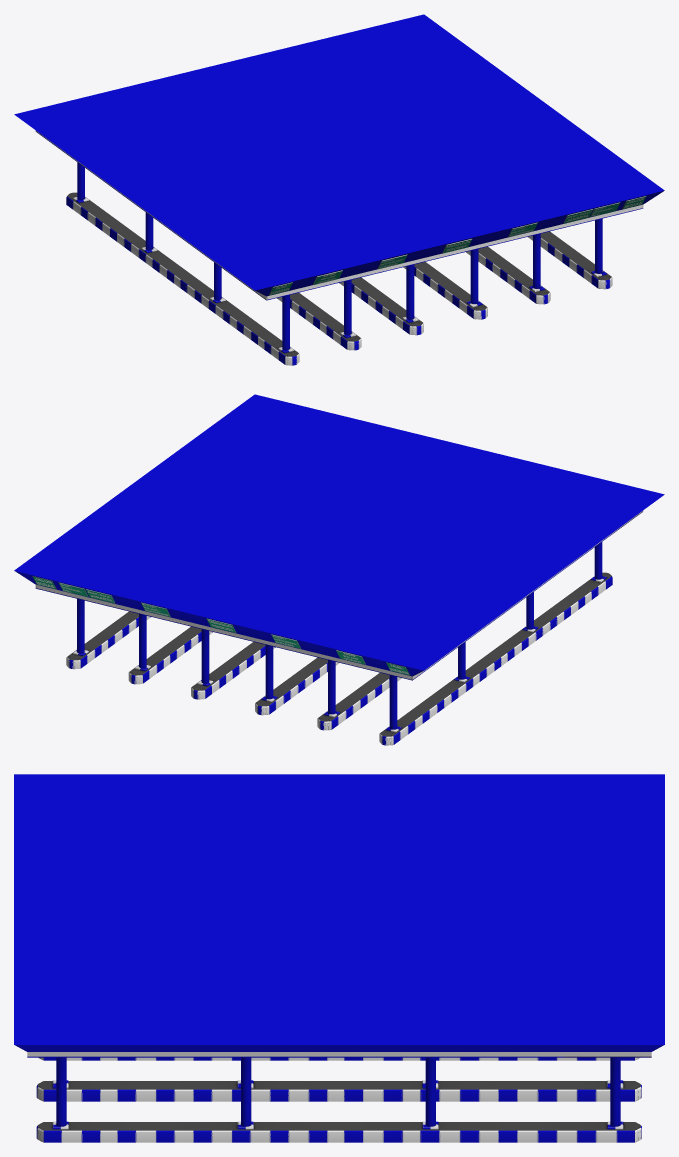
Rendered from sheltergayatri.glb.
3 renders of one model, top to bottom at view 1: azimuth 30°, elevation 25°; view 2: azimuth 150°, elevation 25°; view 3: azimuth 270°, elevation 25°, orthographic. The views are drawn at different scales.
Visible parts, largest first — view 1: Cube.003, Cube.023, Cube.021, Cube.028, Cylinder.002, Cube.022, Cube.018, Cube, Cube.002, Cylinder, Cylinder.001; view 2: Cube.003, Cube.023, Cube.021, Cube.028, Cylinder.002, Cube.022, Cube.018, Cube.002, Cube, Cylinder, Cylinder.001; view 3: Cube.003, Cube.021, Cube.002, Cube.023, Cube.018, Cube.028, Cylinder.002, Cube.
Part boxes in pixels (x1,y1,x2,y2): Cube.003: (14, 14, 664, 300); Cube.023: (67, 192, 611, 356); Cube.021: (66, 196, 612, 365); Cube.028: (35, 130, 643, 299); Cylinder.002: (77, 162, 602, 350); Cube.022: (351, 262, 487, 326); Cube.018: (290, 246, 549, 341); Cube: (339, 266, 487, 335); Cube.002: (277, 251, 550, 350); Cylinder: (406, 249, 478, 319); Cylinder.001: (344, 233, 540, 334); Cube.003: (14, 394, 664, 680); Cube.023: (67, 572, 611, 736); Cube.021: (66, 574, 612, 745); Cube.028: (35, 510, 643, 679); Cylinder.002: (77, 542, 602, 729); Cube.022: (191, 642, 327, 706); Cube.018: (129, 626, 389, 721); Cube.002: (128, 631, 401, 730); Cube: (191, 646, 339, 715); Cylinder: (201, 629, 273, 699); Cylinder.001: (139, 614, 335, 714); Cube.003: (14, 774, 664, 1057); Cube.021: (36, 1125, 641, 1142); Cube.002: (36, 1084, 641, 1101); Cube.023: (37, 1122, 640, 1130); Cube.018: (37, 1081, 640, 1089); Cube.028: (27, 1052, 651, 1056); Cylinder.002: (56, 1057, 620, 1126); Cube: (38, 1057, 640, 1060).
Bounding box in the file's own units: 80.32 × 17.31 × 81.69.
Materials: 16 (16 with a texture image).
